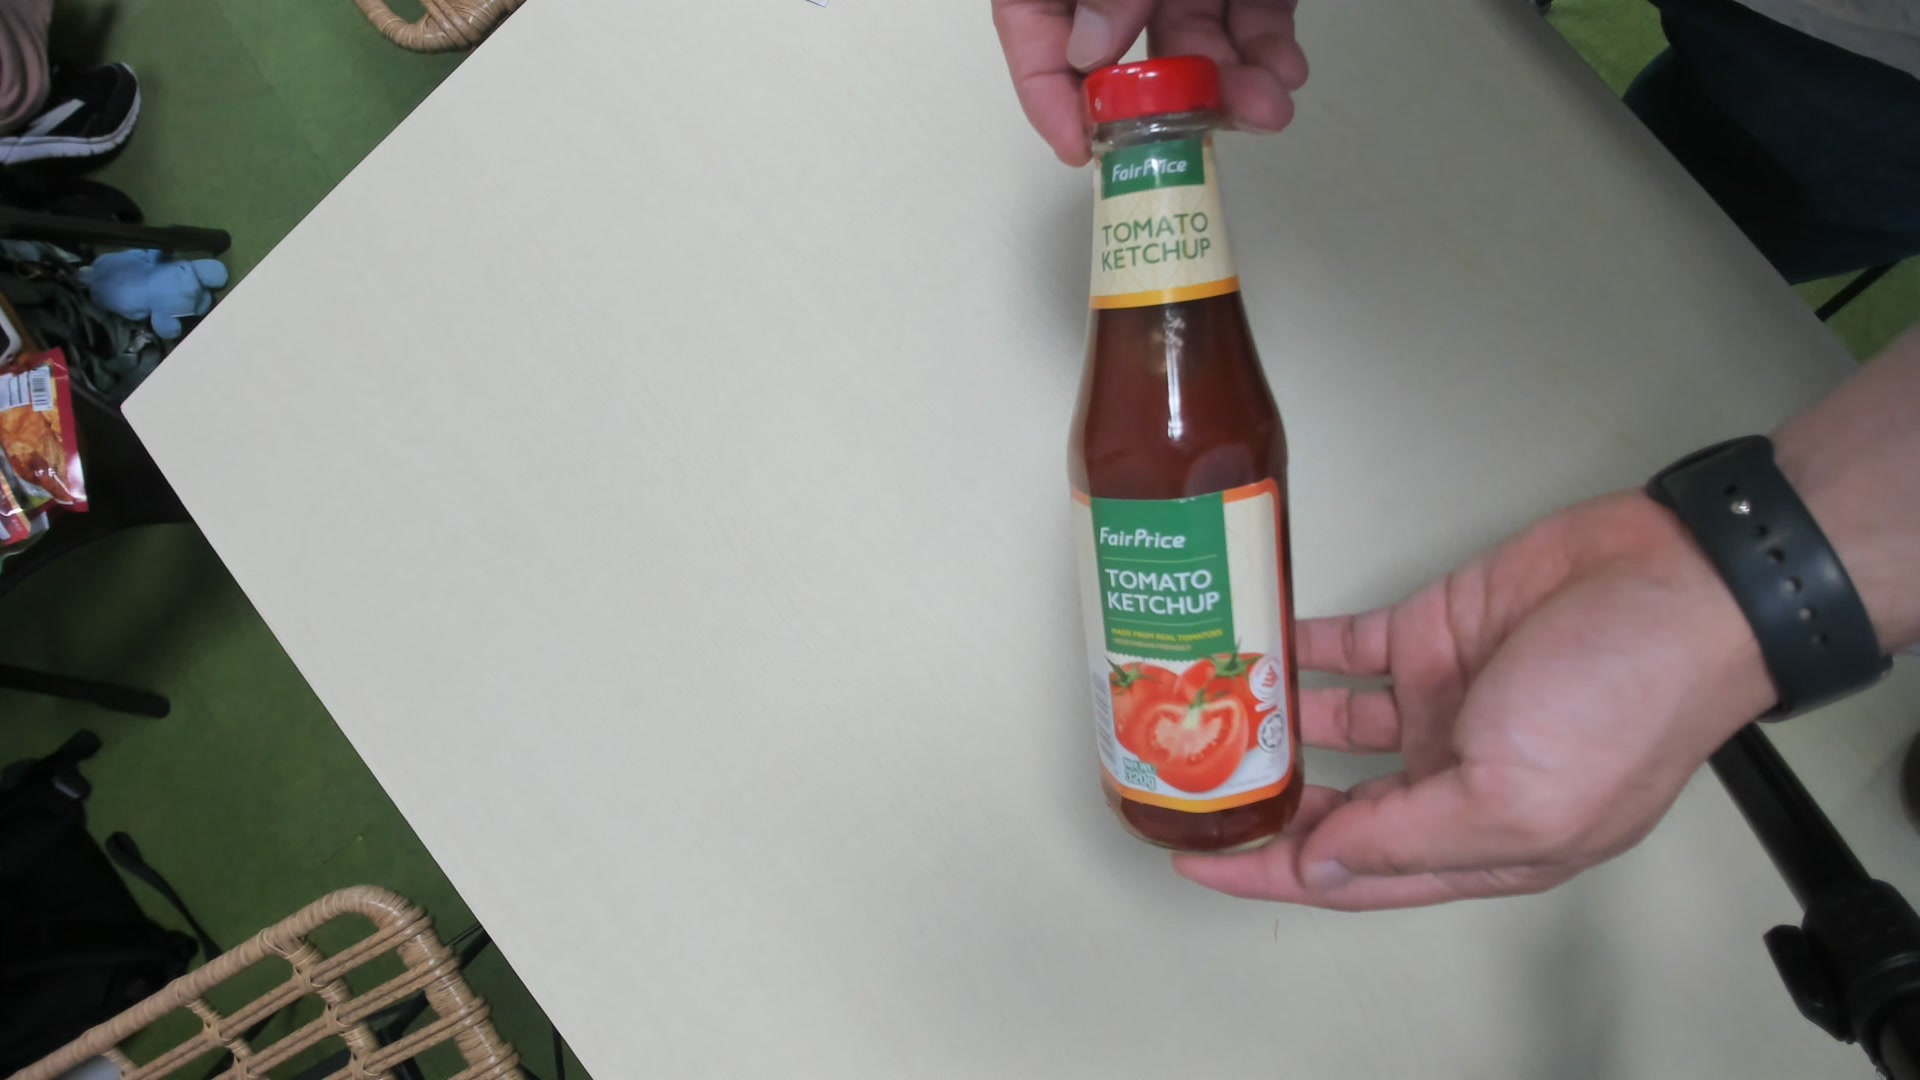KetchupChillSauce_300-399g_Halal_Healthy: (1071, 46, 1304, 851)
